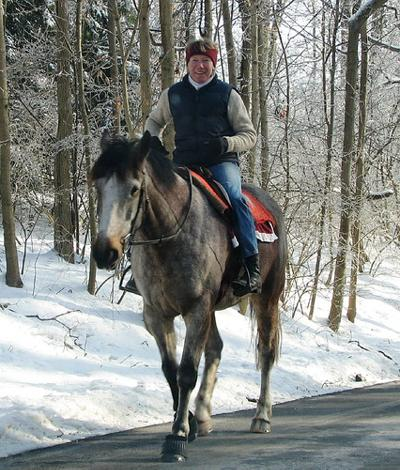person: (144, 36, 265, 299)
